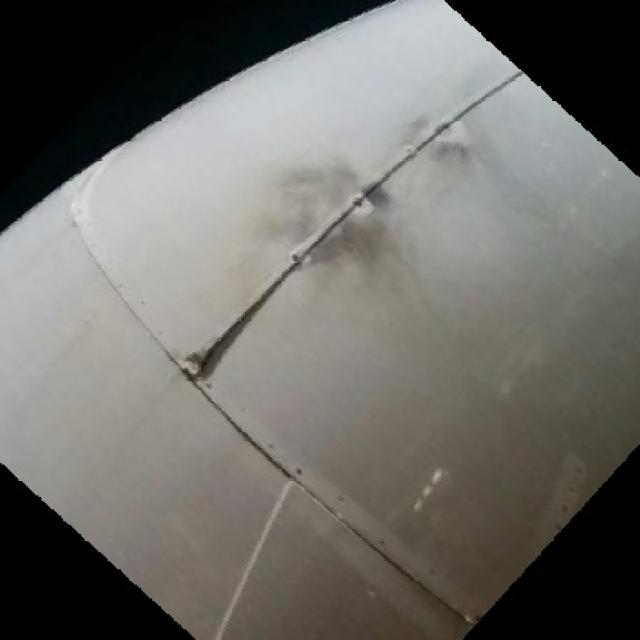crack: (252, 264, 297, 317), (201, 315, 241, 372)
